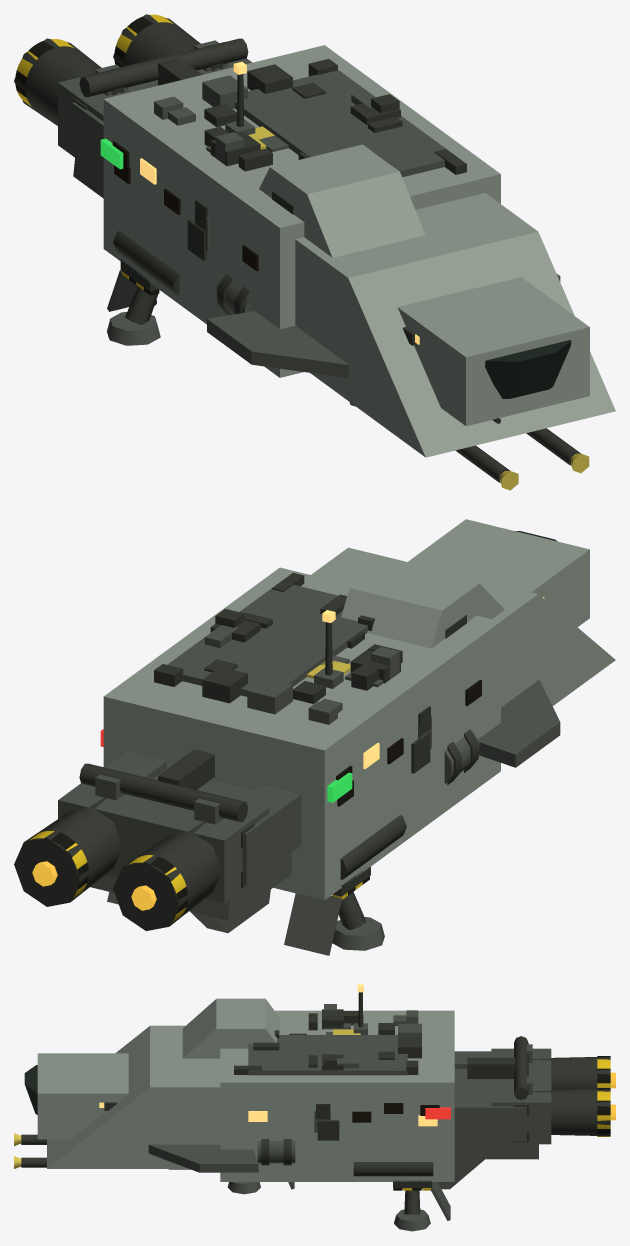
File: courier-m(3).glb
The picture shows the model from 3 angles, top to bottom: view 1: azimuth 30°, elevation 25°; view 2: azimuth 150°, elevation 25°; view 3: azimuth 270°, elevation 25°; orthographic projection. The views are drawn at different scales.
Visible parts, largest first — view 1: hullMain, hullForebody, hullNose, canopyFairing, accentStripe, engineHousing (×2), canardLeft, cockpitGlass, propellantHeader, engineBayExtension, tailBoom0, laserBarrel (×2) (+7 smaller); view 2: hullMain, engineHousing (×2), hullForebody, hullNose, accentStripe, canopyFairing, engineBayExtension, canardLeft, tailBoom0, propellantHeader, hullTailWedge, gearBayDoor (+11 smaller); view 3: hullMain, hullForebody, hullNose, accentStripe, canopyFairing, engineHousing (×2), engineBayExtension, tailBoom1, canardRight, hullTailWedge, courierShiphullMainServicePipeR, propellantTrunk (+11 smaller).
Part boxes in pixels (left/top/right/bottom): hullMain: left=103, top=45, right=500, bottom=377; hullForebody: left=295, top=193, right=615, bottom=457; hullNose: left=397, top=277, right=589, bottom=426; canopyFairing: left=259, top=144, right=424, bottom=257; accentStripe: left=234, top=70, right=445, bottom=177; engineHousing (×2): left=14, top=14, right=200, bottom=125; canardLeft: left=207, top=311, right=349, bottom=378; cockpitGlass: left=485, top=340, right=571, bottom=398; propellantHeader: left=79, top=38, right=248, bottom=96; engineBayExtension: left=58, top=42, right=251, bottom=178; tailBoom0: left=72, top=102, right=103, bottom=176; laserBarrel (×2): left=455, top=428, right=580, bottom=482; hullMain: left=103, top=567, right=500, bottom=900; engineHousing (×2): left=14, top=797, right=221, bottom=930; hullForebody: left=311, top=547, right=615, bottom=707; hullNose: left=408, top=519, right=589, bottom=626; accentStripe: left=167, top=584, right=367, bottom=696; canopyFairing: left=341, top=561, right=504, bottom=648; engineBayExtension: left=58, top=767, right=269, bottom=903; canardLeft: left=478, top=679, right=560, bottom=767; tailBoom0: left=240, top=784, right=301, bottom=885; propellantHeader: left=79, top=763, right=248, bottom=821; hullTailWedge: left=90, top=769, right=291, bottom=920; gearBayDoor: left=284, top=893, right=342, bottom=955; hullMain: left=220, top=1010, right=454, bottom=1181; hullForebody: left=47, top=1025, right=220, bottom=1168; hullNose: left=37, top=1053, right=128, bottom=1139; accentStripe: left=248, top=1035, right=407, bottom=1075; canopyFairing: left=182, top=998, right=280, bottom=1058; engineHousing (×2): left=532, top=1057, right=610, bottom=1136; engineBayExtension: left=491, top=1048, right=551, bottom=1144; tailBoom1: left=454, top=1095, right=526, bottom=1141; canardRight: left=148, top=1144, right=258, bottom=1172; hullTailWedge: left=454, top=1069, right=538, bottom=1159; courierShiphullMainServicePipeR: left=353, top=1162, right=433, bottom=1176; propellantTrunk: left=467, top=1057, right=515, bottom=1078.
Bounding box in the file's own units: 1.47 × 1.28 × 3.73.
